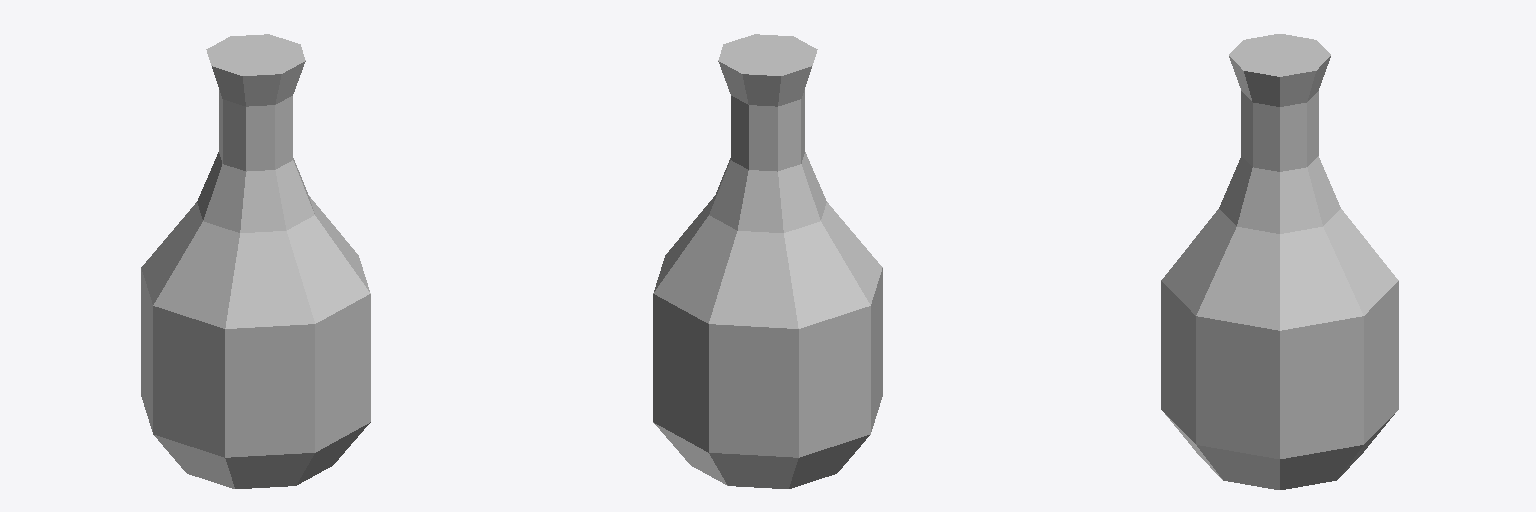
The model's file is vase.obj.
3 views of the same model, side by side, from view 1: azimuth 30°, elevation 25°; view 2: azimuth 150°, elevation 25°; view 3: azimuth 270°, elevation 25° (orthographic).
Parts seen in each view (by area): view 1: Cylinder.010; view 2: Cylinder.010; view 3: Cylinder.010.
Boxes of the visible parts, x1=… form: Cylinder.010: x1=141, y1=34, x2=370, y2=488; Cylinder.010: x1=653, y1=34, x2=882, y2=488; Cylinder.010: x1=1161, y1=34, x2=1398, y2=489.
Size of the model in its own units: 0.4409 by 0.8224 by 0.4409.